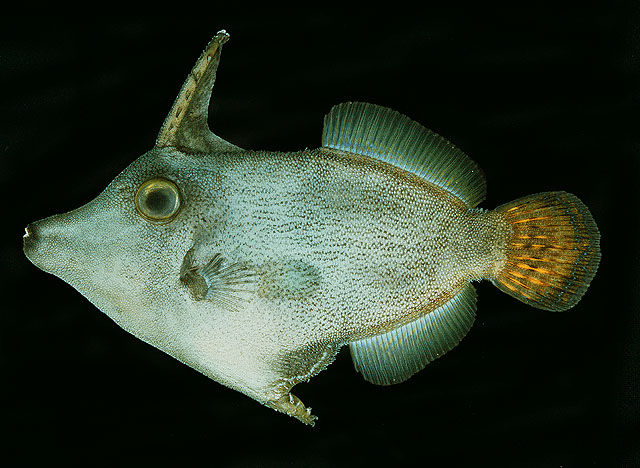fish: (22, 32, 602, 428)
